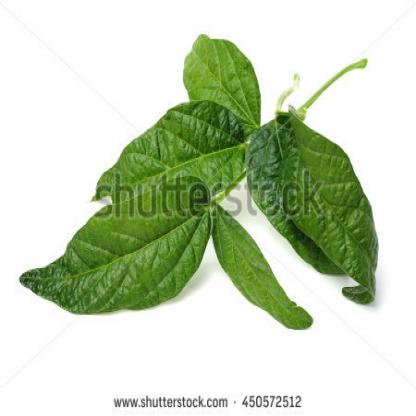Soyabean leaf: (11, 177, 219, 315), (85, 96, 263, 210), (206, 197, 318, 335), (184, 28, 271, 135)
